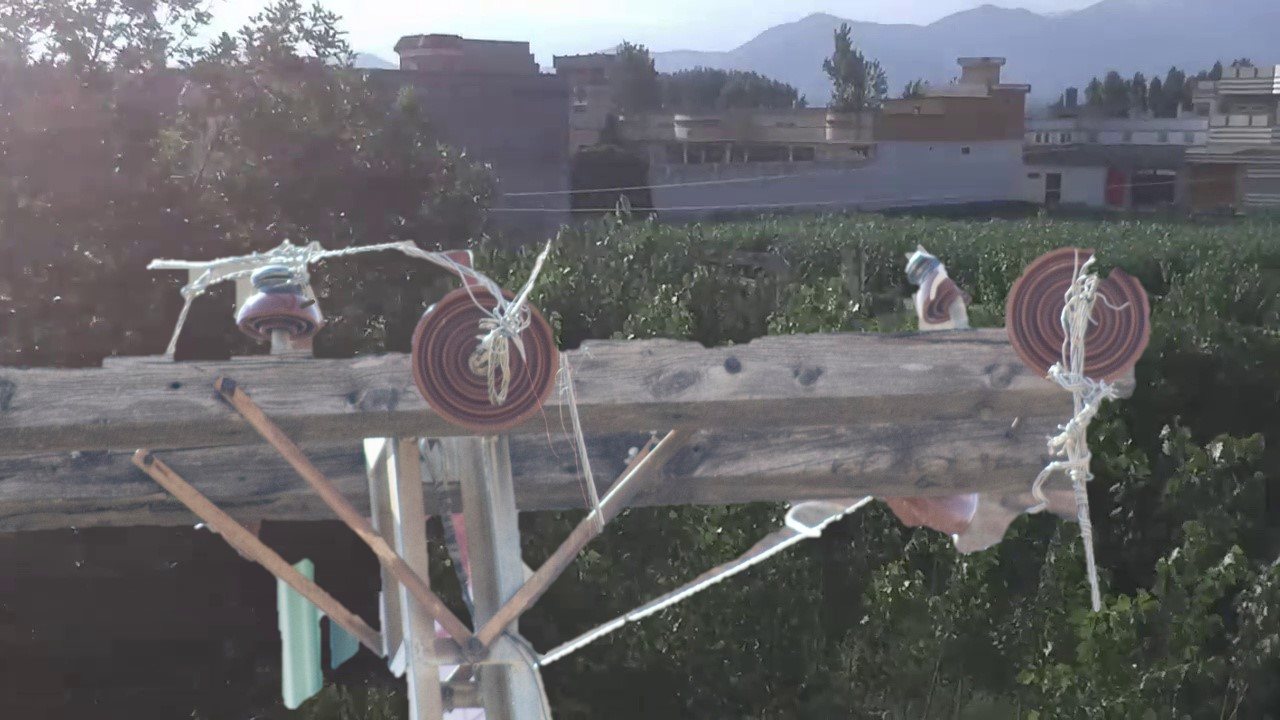defect_pin: (901, 239, 971, 333)
insulator_disc: (404, 277, 561, 434), (1003, 239, 1162, 386)
insulator_pin: (231, 255, 328, 351)
